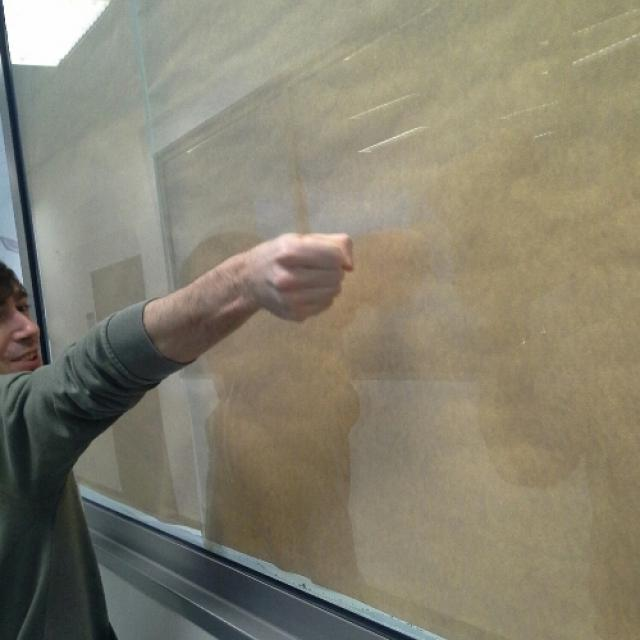rock: (250, 234, 358, 322)
